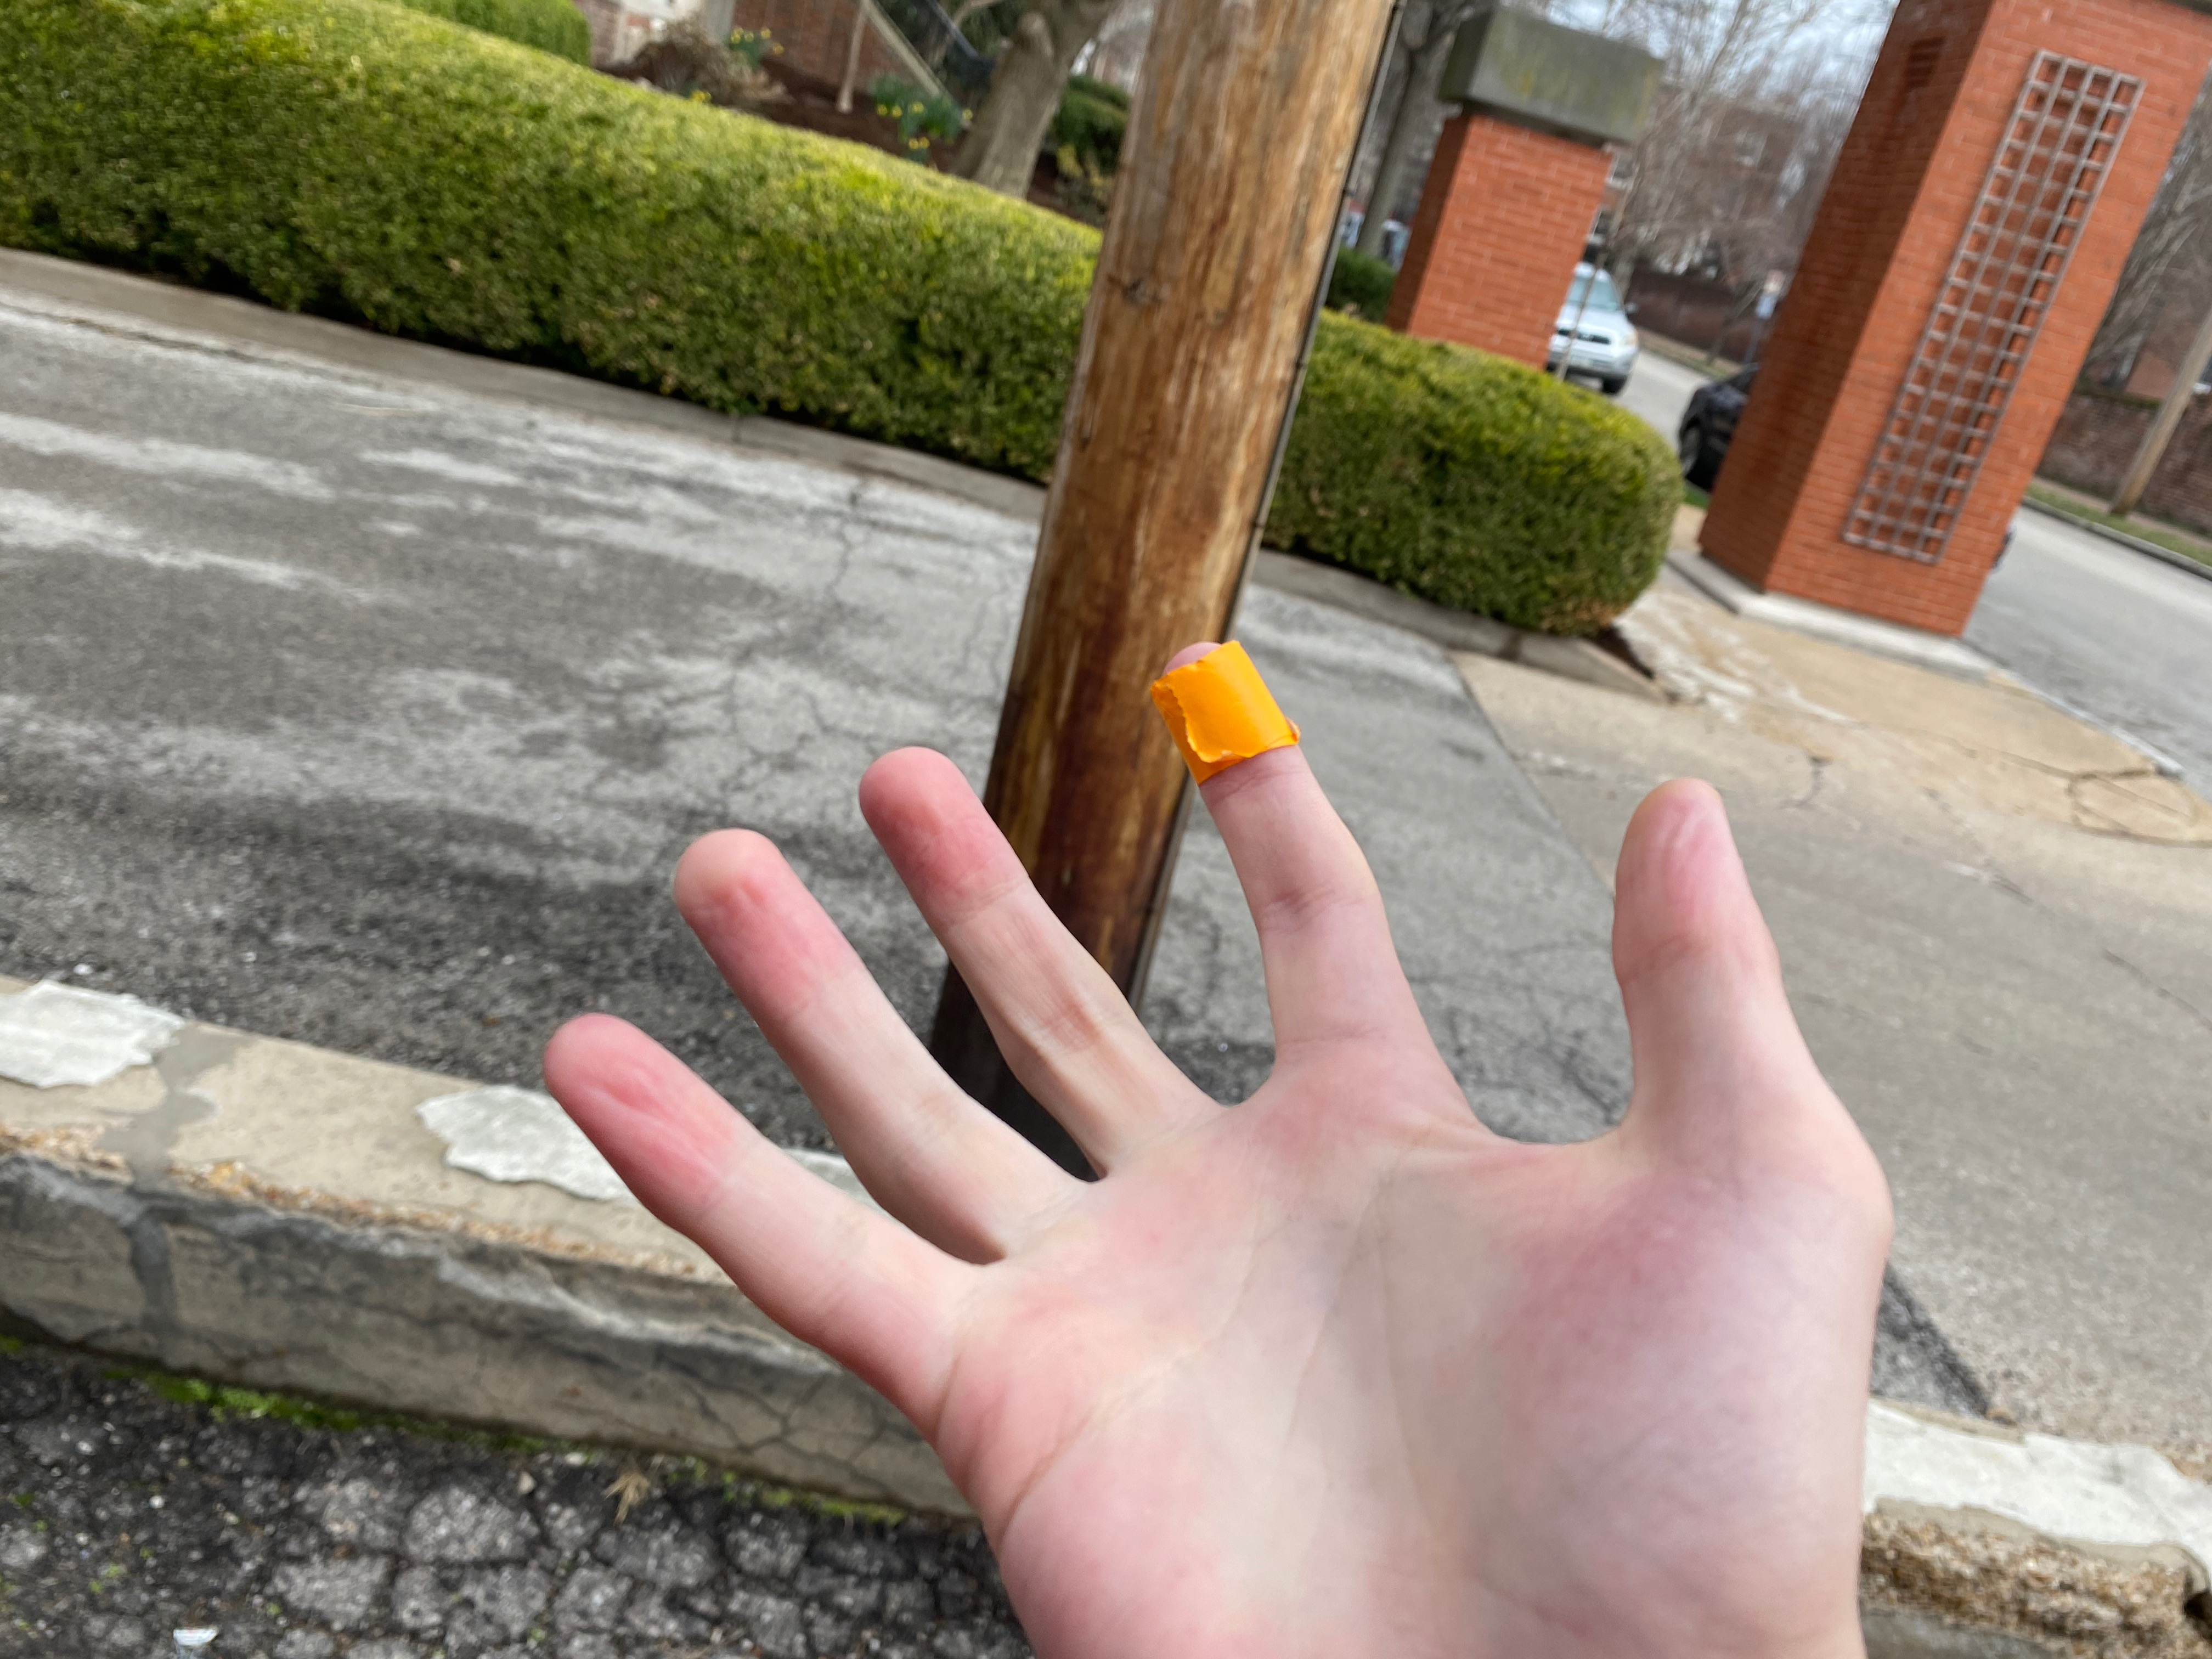fingertip: (1151, 638, 1310, 781)
